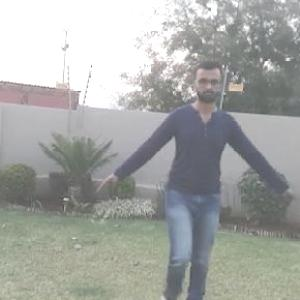land: (109, 69, 284, 299)
